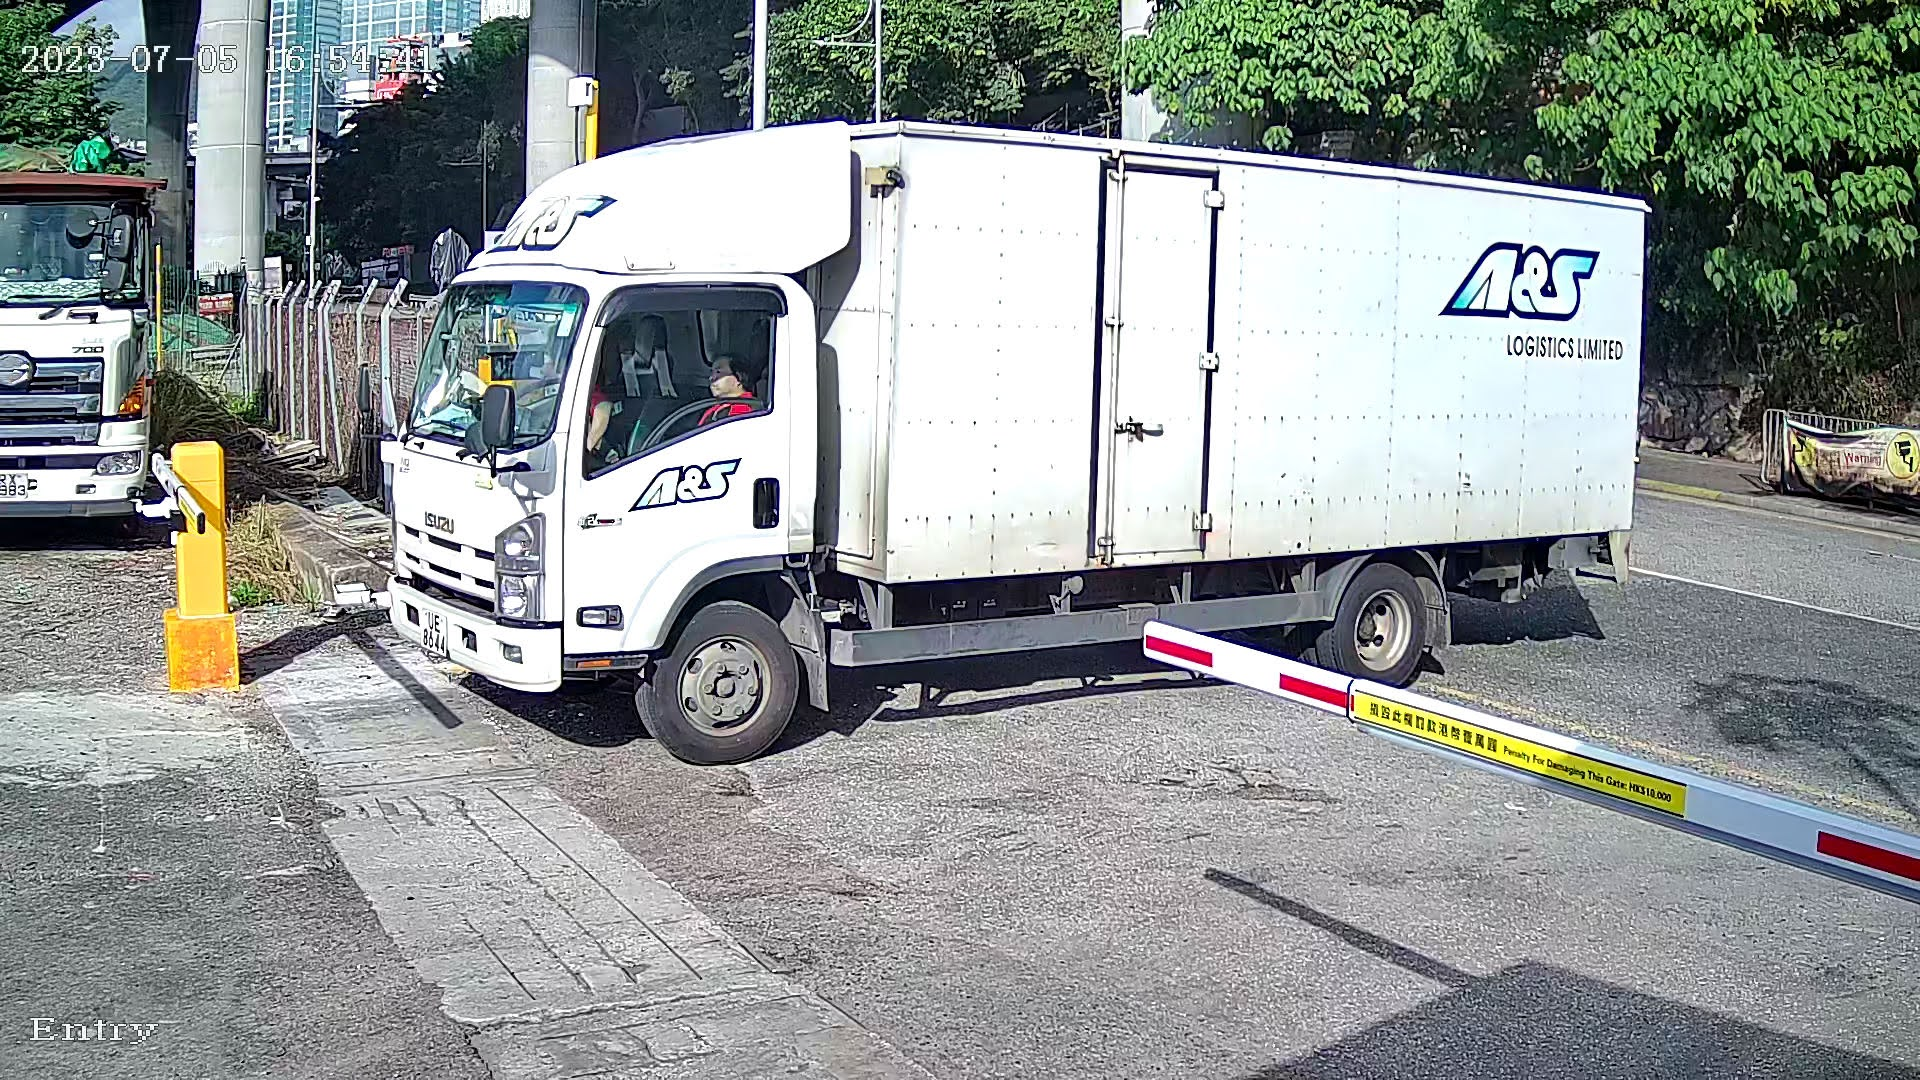truck: (336, 88, 1693, 781)
